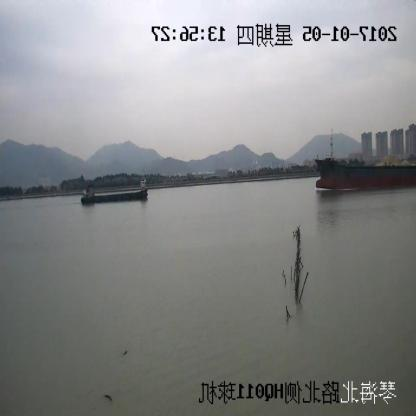Bulk Carrier: (315, 131, 416, 190), (81, 179, 149, 205)
